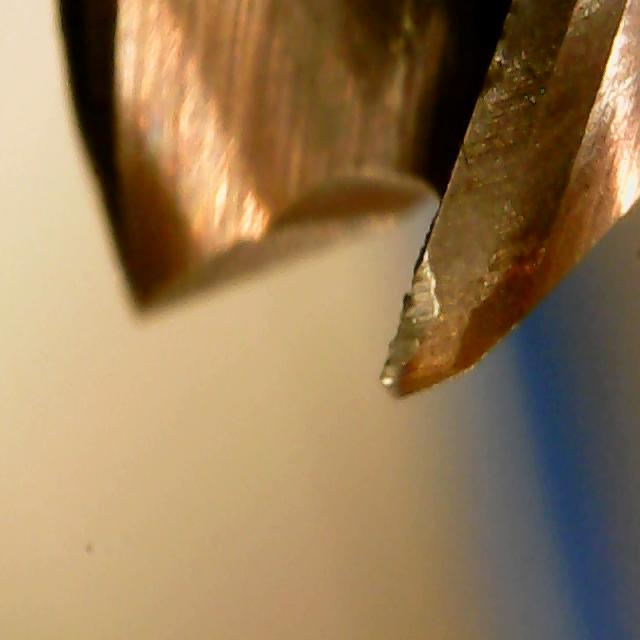Tool-wear-class-1: (367, 98, 522, 410)
